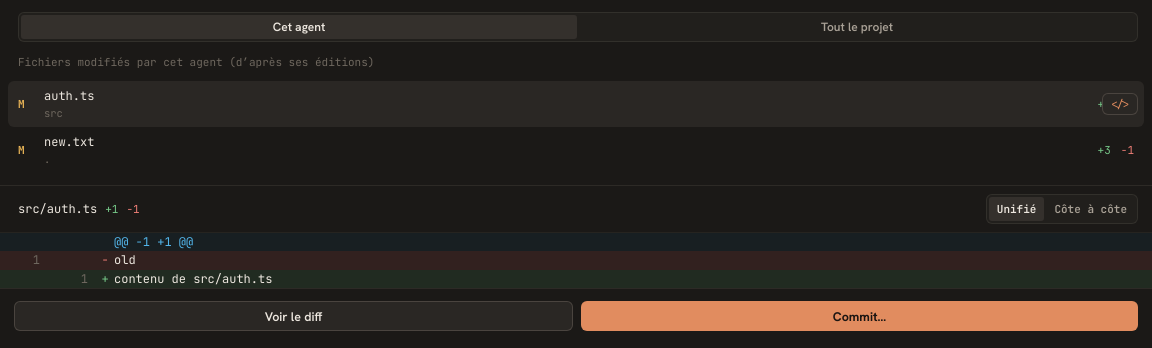
Test: FilesPanel docked in the split layout › shows the first file’s diff right away, and another file’s diff in place when picked
Expected: the text "contenu de src/auth.ts" is shown, [114,270,292,288]
Click the button "M new.txt . +3 −1": (69, 142) [8,126,1144,172]
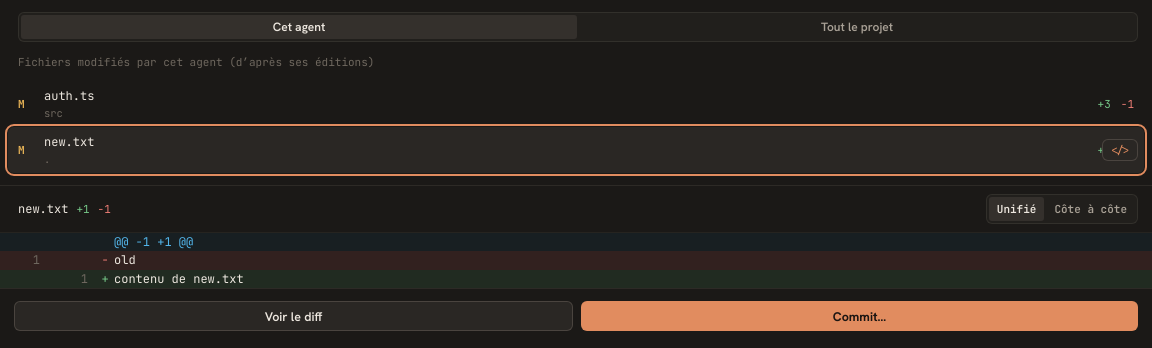
Result: the text "contenu de new.txt" is shown at [114,270,264,288]
